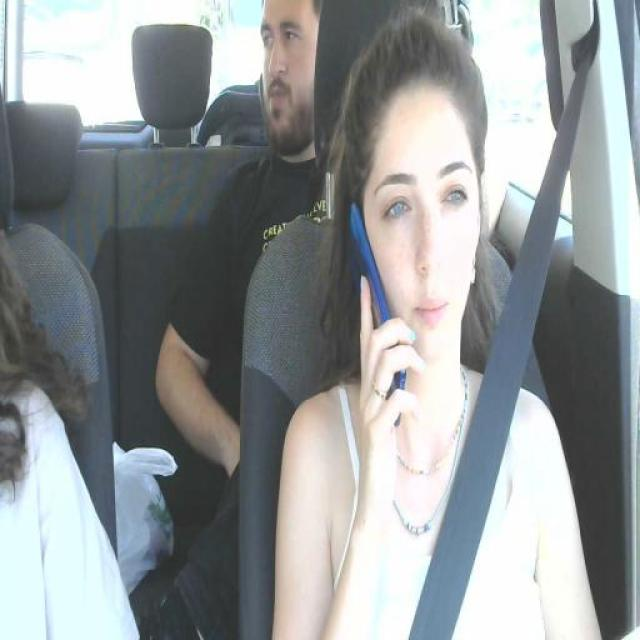phone: (336, 200, 406, 418)
